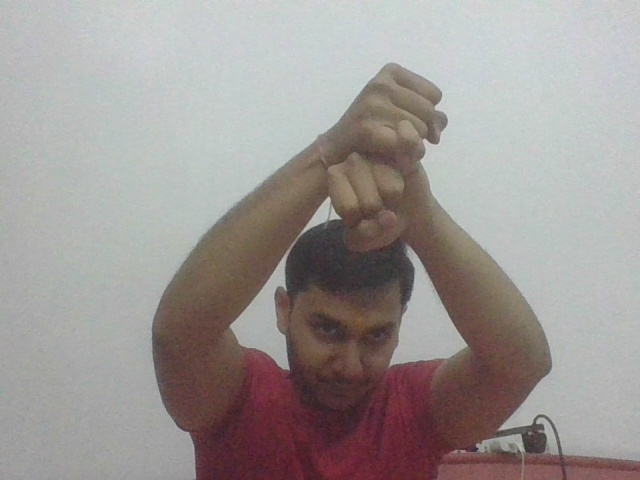S: (325, 57, 448, 249)
